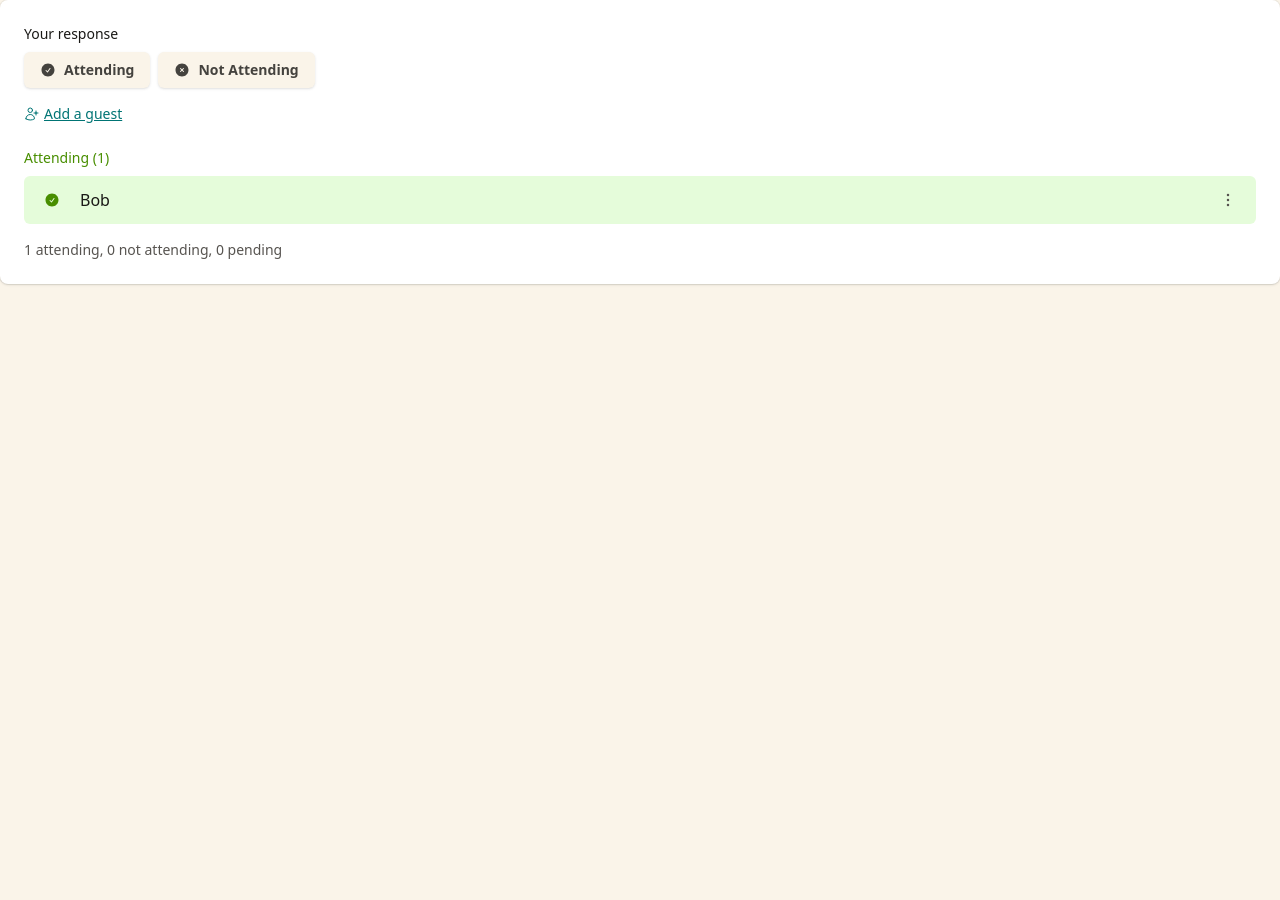
Test case: RsvpSection on-behalf actions › blocks declining another member who has expenses and names them in the dialog
Click the button with test id "rsvp-other-menu".
click(1228, 200)  # box [1212,184,1244,216]
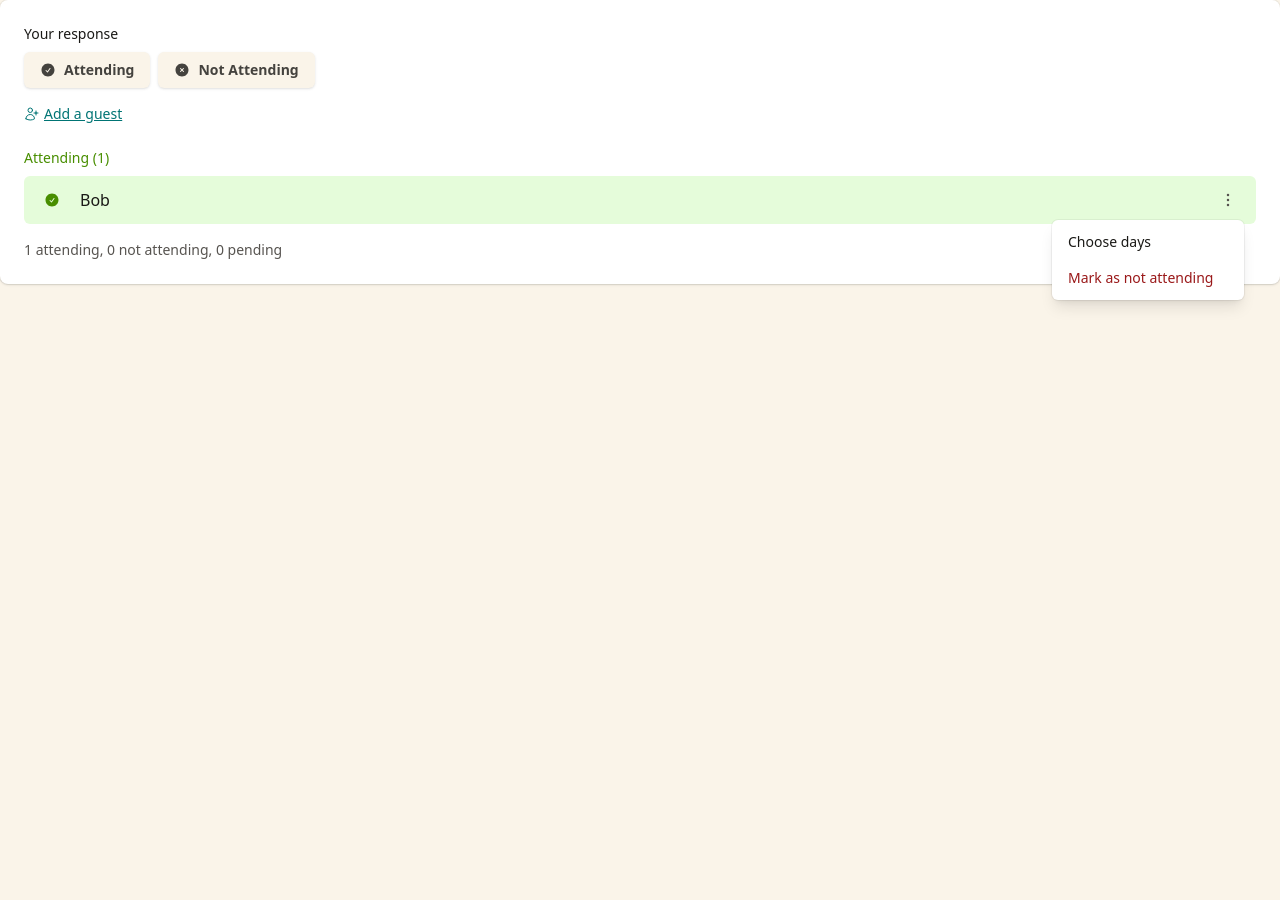
Expected: the menu item "Mark as not attending" is shown
Click the menu item "Mark as not attending".
click(1148, 278)  # box [1052,260,1244,296]
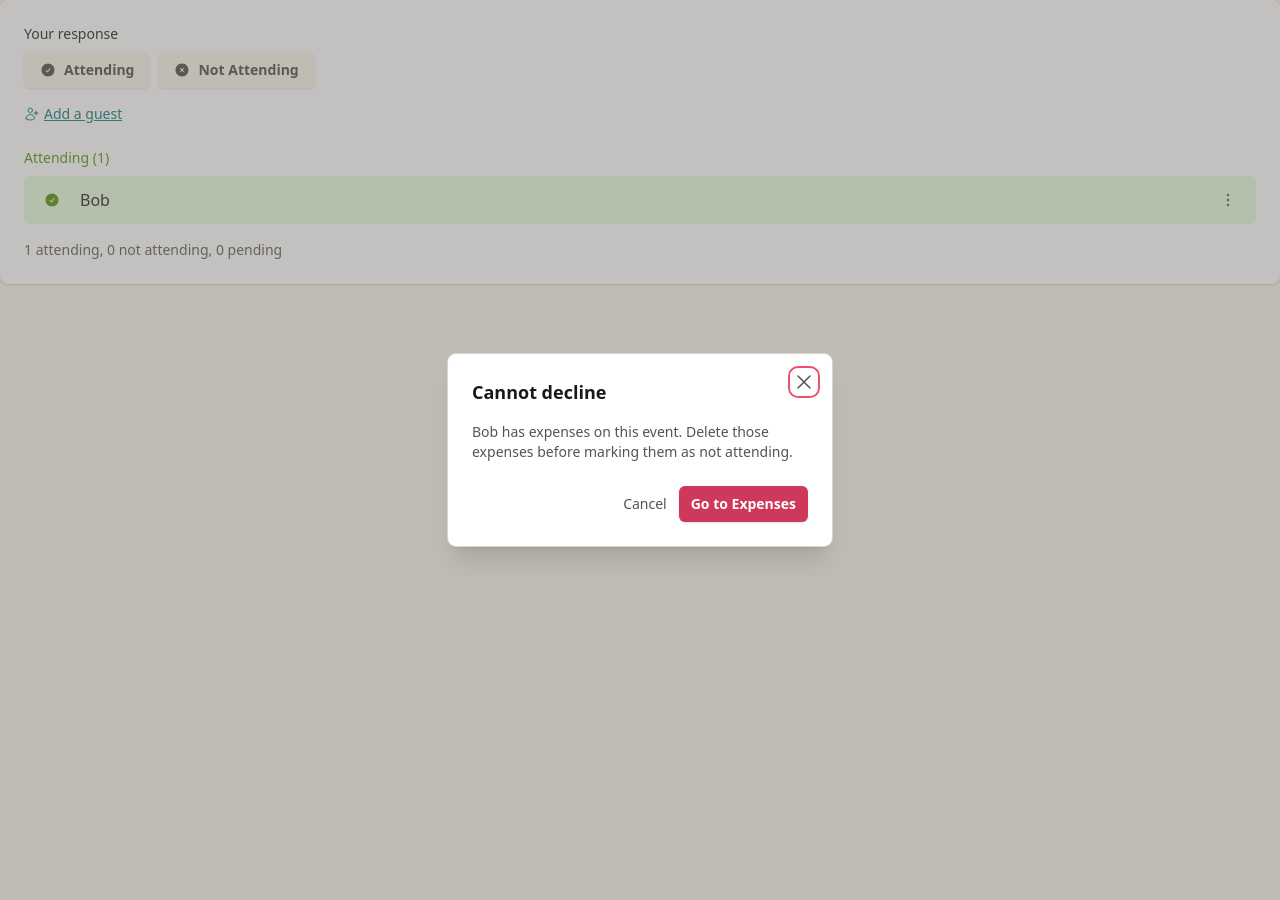
Expected: the text "Bob has expenses on this event" is shown, [472,422,793,461]
